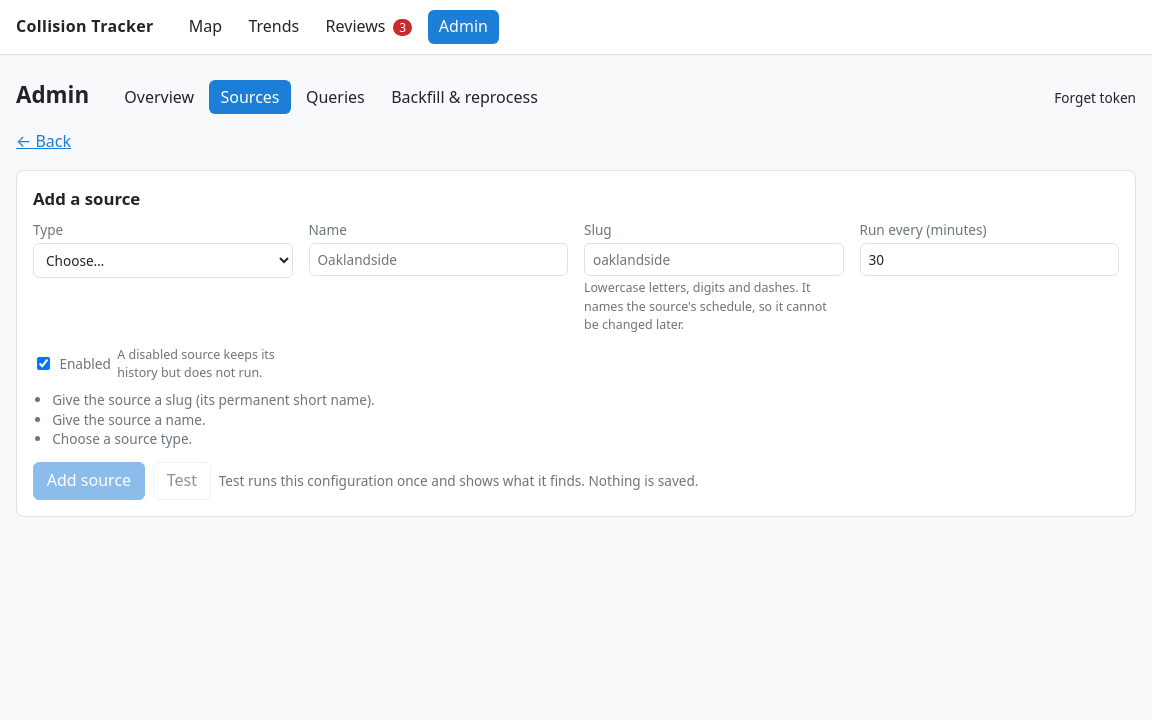
Test case: Source form › tests the configuration without saving, and shows what it found
This screenshot has width=1152, height=720.
Select "RSS feed" in the dropdown labelled "Type" at (163, 260), box [33, 243, 292, 278]
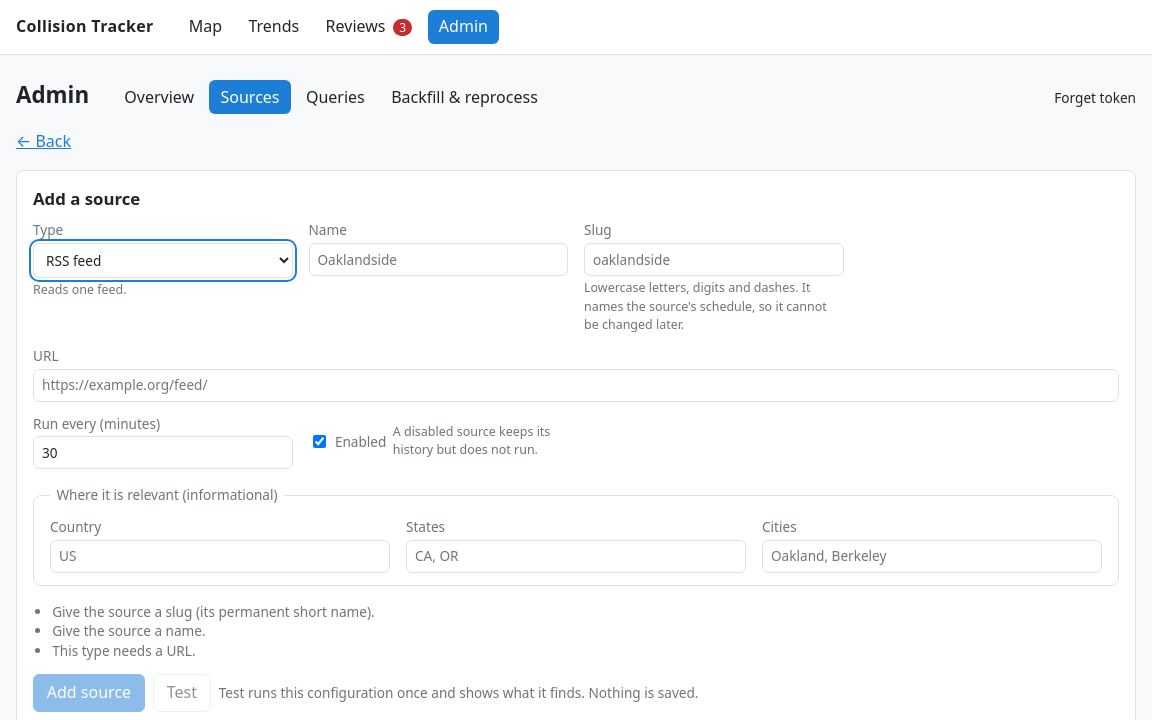
Type "Test Feed" into the field labelled "Name".
click(438, 260); type("Test Feed")  # box [308, 243, 568, 276]
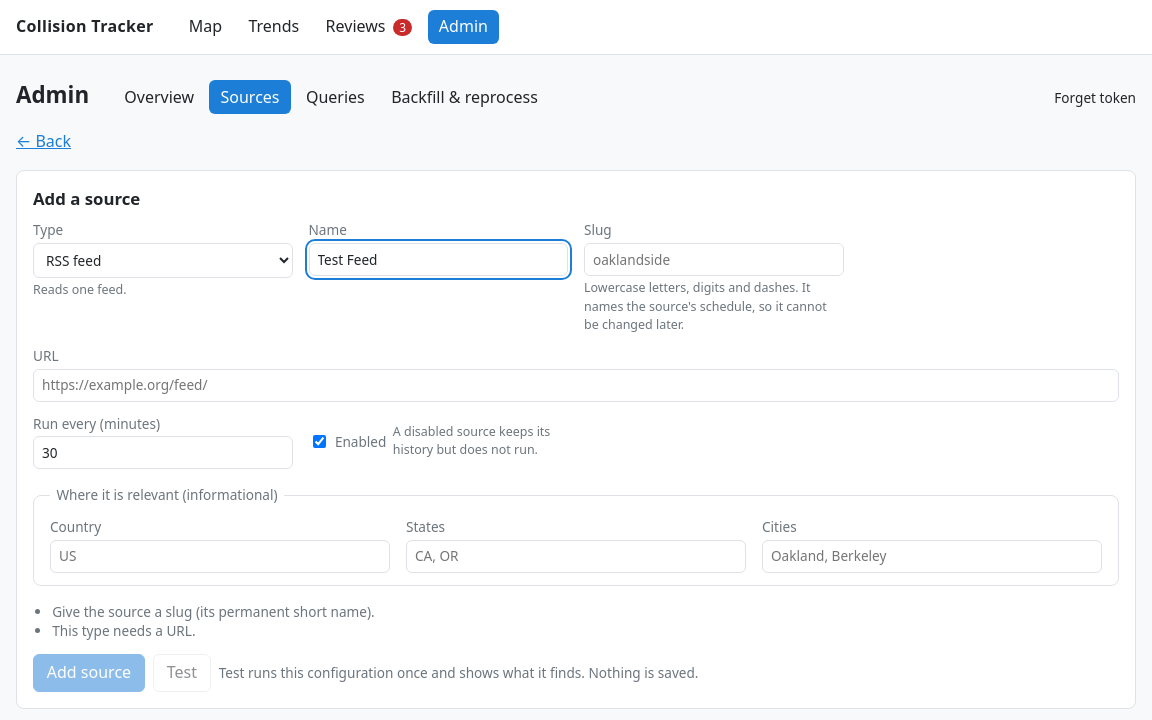
Type "test-feed" into the field labelled "Slug".
click(714, 260); type("test-feed")  # box [584, 243, 844, 276]
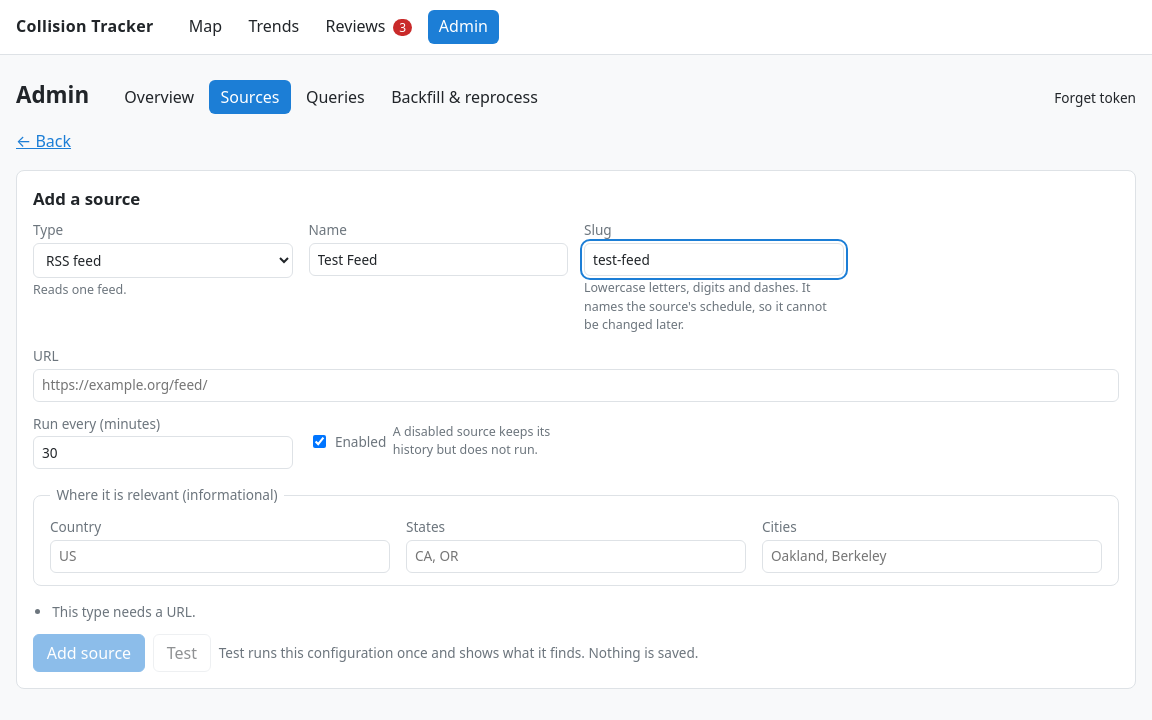
Type "https://t.test/feed" into the field labelled "URL".
click(576, 385); type("https://t.test/feed")  # box [33, 369, 1119, 402]
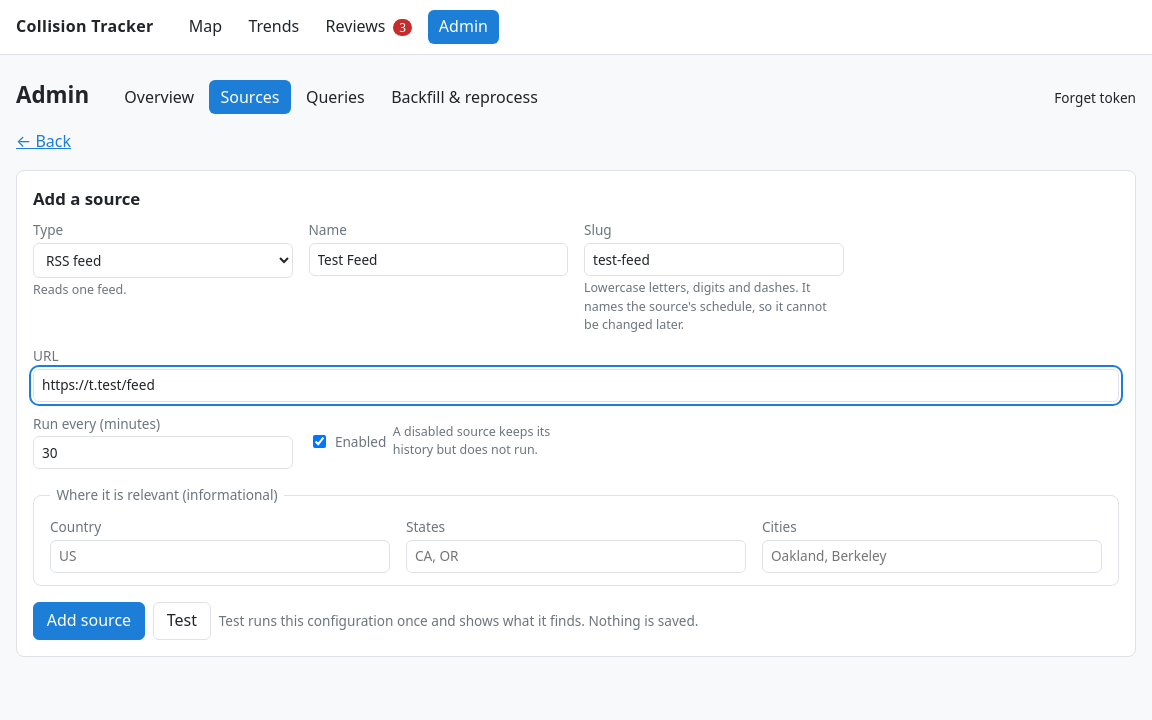
Click the button "Test".
click(182, 621)  # box [153, 602, 211, 640]
(page scrolled)
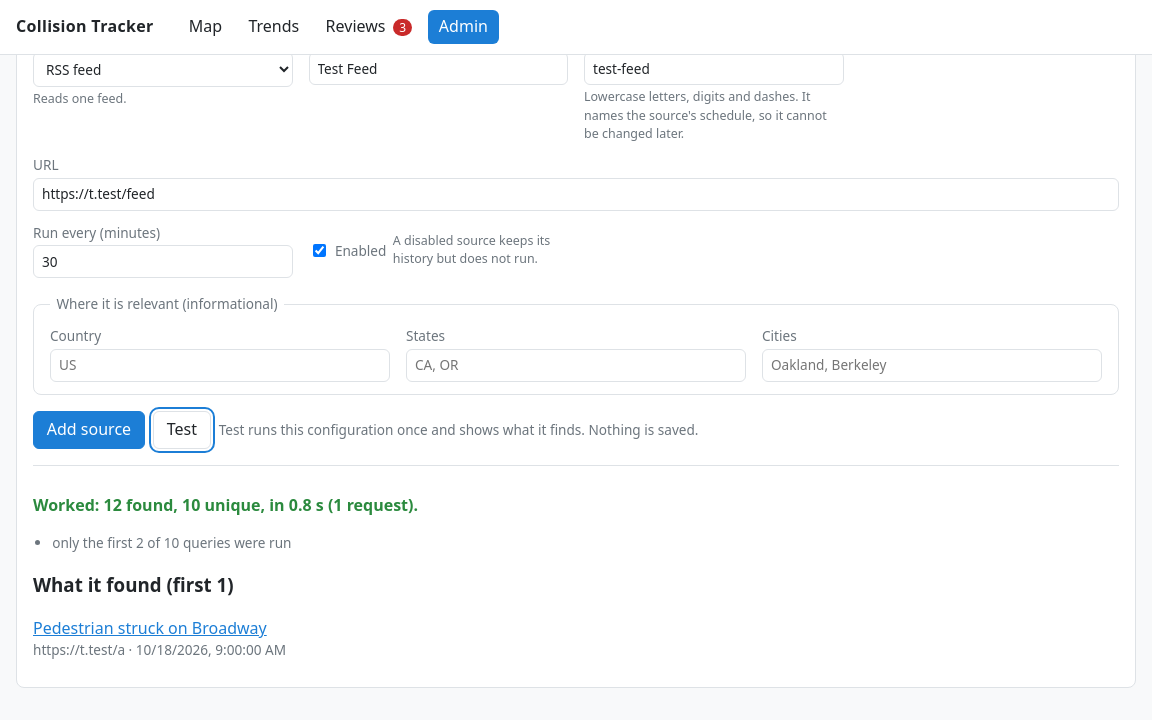
Result: the text "Worked: 12 found, 10 unique, in 0.8 s (1 request)." is shown at [33, 494, 418, 516]
Result: the list item "only the first 2 of 10 queries were run" is shown at [52, 533, 292, 552]
